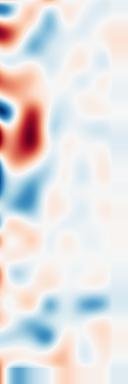filament: (3, 96, 55, 173)
